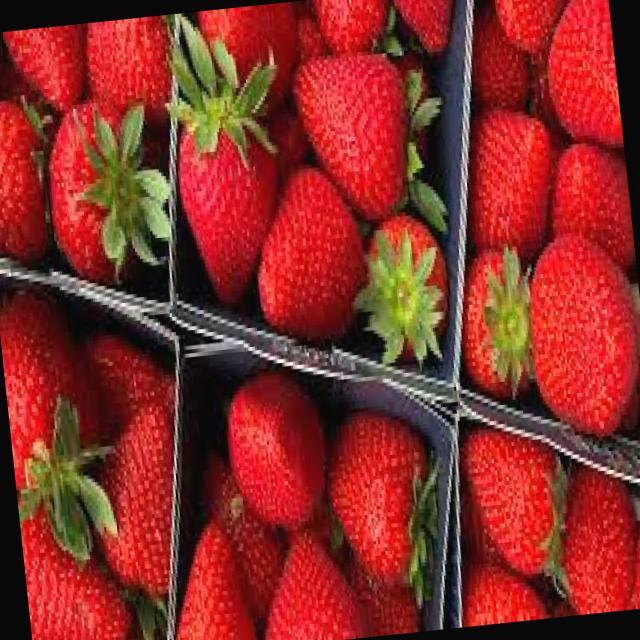strawberry: (172, 93, 295, 308), (519, 227, 640, 442), (290, 42, 421, 230), (318, 403, 444, 597), (0, 283, 111, 500), (246, 159, 372, 345), (40, 94, 145, 288), (458, 416, 574, 586), (220, 364, 332, 536), (457, 102, 562, 266), (452, 240, 548, 406), (356, 207, 454, 362), (548, 461, 640, 613), (158, 516, 260, 640)
